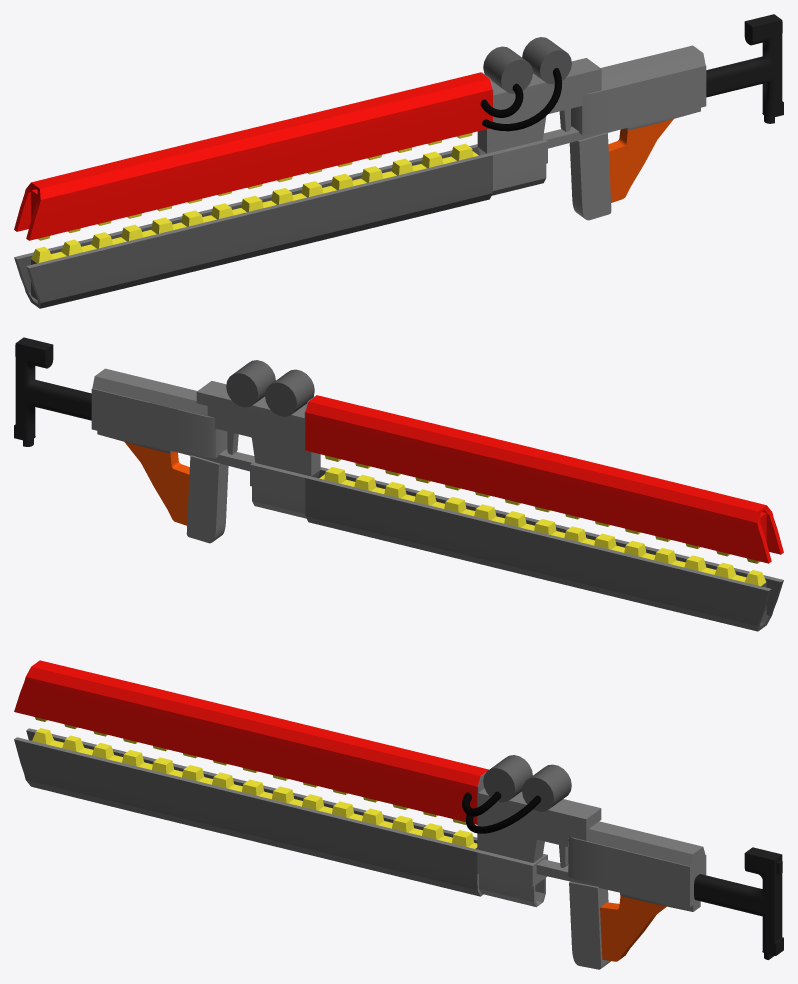
The model's file is railgun.fbx.
3 renders of one model, top to bottom at view 1: azimuth 30°, elevation 25°; view 2: azimuth 150°, elevation 25°; view 3: azimuth 330°, elevation 25°, orthographic.
Visible parts, largest first — view 1: Plane004; view 2: Plane004; view 3: Plane004.
Boxes of the visible parts, left/top/right/bottom form: Plane004: left=14, top=14, right=783, bottom=308; Plane004: left=14, top=337, right=783, bottom=631; Plane004: left=14, top=660, right=783, bottom=969.
Size of the model in its own units: 59.51 by 13.59 by 4.73.
